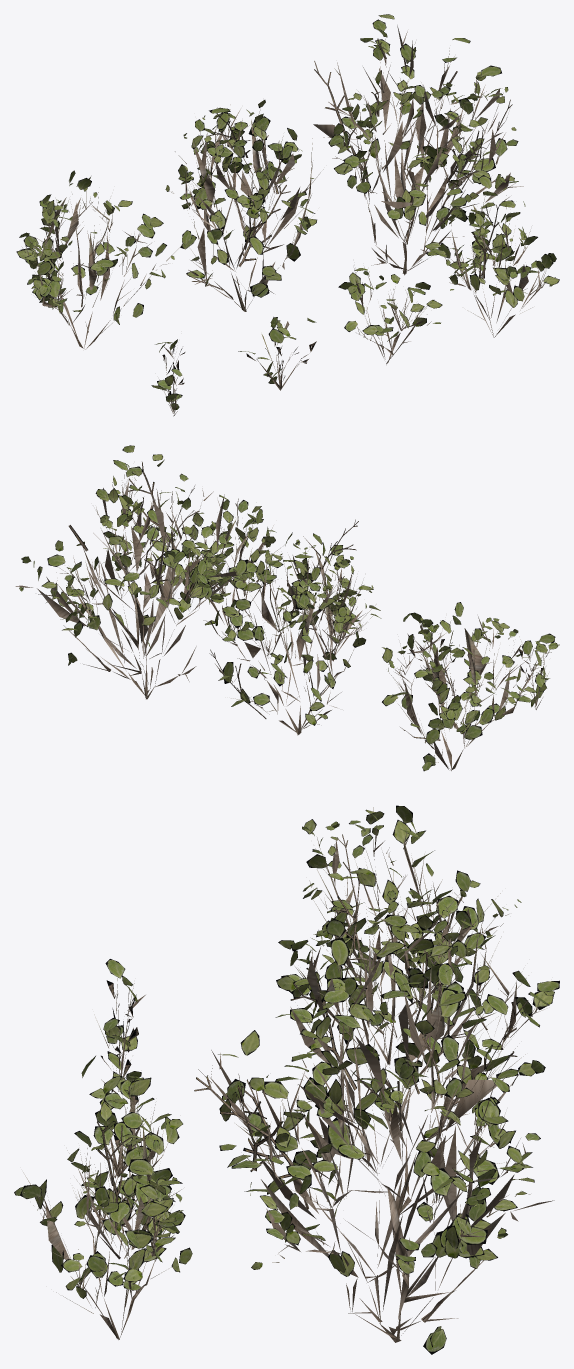
The model's file is searsia_lucida.glb.
The picture shows the model from 3 angles, top to bottom: view 1: azimuth 30°, elevation 25°; view 2: azimuth 150°, elevation 25°; view 3: azimuth 270°, elevation 25°; orthographic projection. The views are drawn at different scales.
Visible parts, largest first — view 1: searsia_lucida_a_LOD0.002, searsia_lucida_a_LOD0.001, searsia_lucida_b_LOD0.002, searsia_lucida_c_LOD0.002, searsia_lucida_b_LOD0.001, searsia_lucida_d_LOD0.002, searsia_lucida_c_LOD0.001, searsia_lucida_e_LOD0.002, searsia_lucida_d_LOD0.001, searsia_lucida_a_LOD0, searsia_lucida_e_LOD0.001, searsia_lucida_b_LOD0 (+1 smaller); view 2: searsia_lucida_a_LOD0.002, searsia_lucida_a_LOD0.001, searsia_lucida_b_LOD0.002, searsia_lucida_c_LOD0.002, searsia_lucida_b_LOD0.001, searsia_lucida_d_LOD0.002, searsia_lucida_c_LOD0.001, searsia_lucida_d_LOD0.001, searsia_lucida_a_LOD0, searsia_lucida_e_LOD0.002, searsia_lucida_g_LOD0.002, searsia_lucida_e_LOD0.001 (+2 smaller); view 3: searsia_lucida_a_LOD0.002, searsia_lucida_a_LOD0.001, searsia_lucida_b_LOD0.002, searsia_lucida_d_LOD0.002, searsia_lucida_c_LOD0.002, searsia_lucida_b_LOD0.001, searsia_lucida_c_LOD0.001, searsia_lucida_d_LOD0.001, searsia_lucida_e_LOD0.002, searsia_lucida_a_LOD0, searsia_lucida_b_LOD0, searsia_lucida_f_LOD0.002 (+2 smaller).
Boxes of the visible parts, x1,y1,x2,y2 form: searsia_lucida_a_LOD0.002: (328,14,525,228); searsia_lucida_a_LOD0.001: (313,25,523,275); searsia_lucida_b_LOD0.002: (165,100,316,297); searsia_lucida_c_LOD0.002: (16,170,191,324); searsia_lucida_b_LOD0.001: (171,104,323,311); searsia_lucida_d_LOD0.002: (424,175,559,307); searsia_lucida_c_LOD0.001: (17,191,182,349); searsia_lucida_e_LOD0.002: (338,268,453,341); searsia_lucida_d_LOD0.001: (435,188,546,337); searsia_lucida_a_LOD0: (314,38,512,189); searsia_lucida_e_LOD0.001: (354,267,434,364); searsia_lucida_b_LOD0: (186,113,290,290); searsia_lucida_a_LOD0.002: (19,445,256,665); searsia_lucida_a_LOD0.001: (15,467,241,699); searsia_lucida_b_LOD0.002: (205,532,373,725); searsia_lucida_c_LOD0.002: (382,602,559,771); searsia_lucida_b_LOD0.001: (215,536,365,735); searsia_lucida_d_LOD0.002: (181,495,283,603); searsia_lucida_c_LOD0.001: (389,616,551,770); searsia_lucida_d_LOD0.001: (195,505,280,630); searsia_lucida_a_LOD0: (68,462,199,600); searsia_lucida_e_LOD0.002: (287,574,381,633); searsia_lucida_g_LOD0.002: (516,633,555,707); searsia_lucida_e_LOD0.001: (299,579,376,661); searsia_lucida_a_LOD0.002: (218,944,540,1354); searsia_lucida_a_LOD0.001: (198,967,554,1342); searsia_lucida_b_LOD0.002: (290,890,559,1184); searsia_lucida_d_LOD0.002: (14,1097,192,1298); searsia_lucida_c_LOD0.002: (276,805,521,1065); searsia_lucida_b_LOD0.001: (290,893,544,1217); searsia_lucida_c_LOD0.001: (293,807,508,1088); searsia_lucida_d_LOD0.001: (23,1104,181,1339); searsia_lucida_e_LOD0.002: (67,1098,182,1234); searsia_lucida_a_LOD0: (194,983,528,1179); searsia_lucida_b_LOD0: (290,834,518,1180); searsia_lucida_f_LOD0.002: (81,1056,151,1159).
Size of the model in its own units: 4.78 by 2.24 by 2.83.
Materials: 3 (3 with a texture image).
